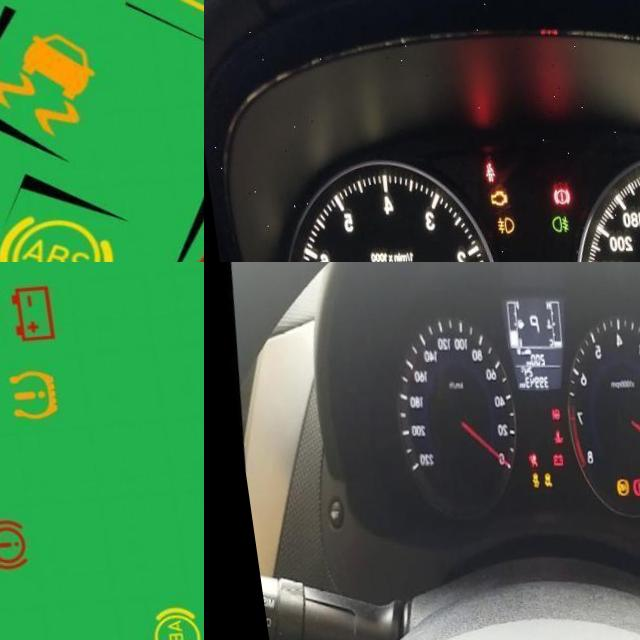Electronic Power Steering: (543, 413, 554, 427)
High Engine Coolant Temperature: (545, 435, 556, 450)
